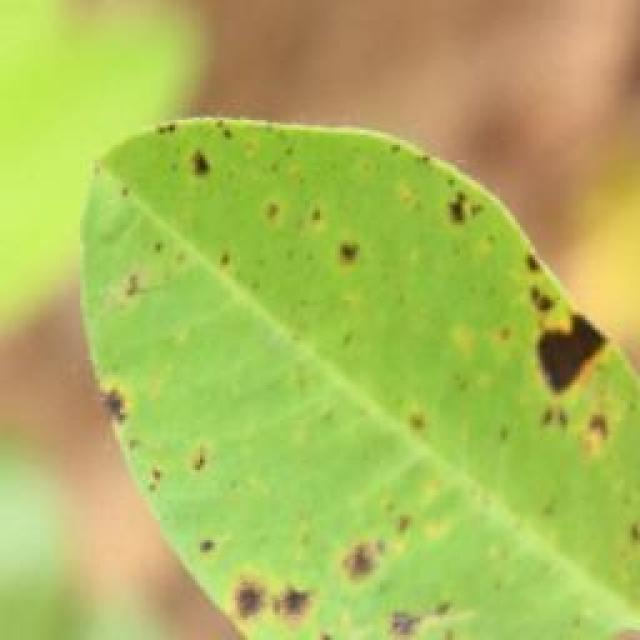Yellowish: (81, 96, 596, 636)
